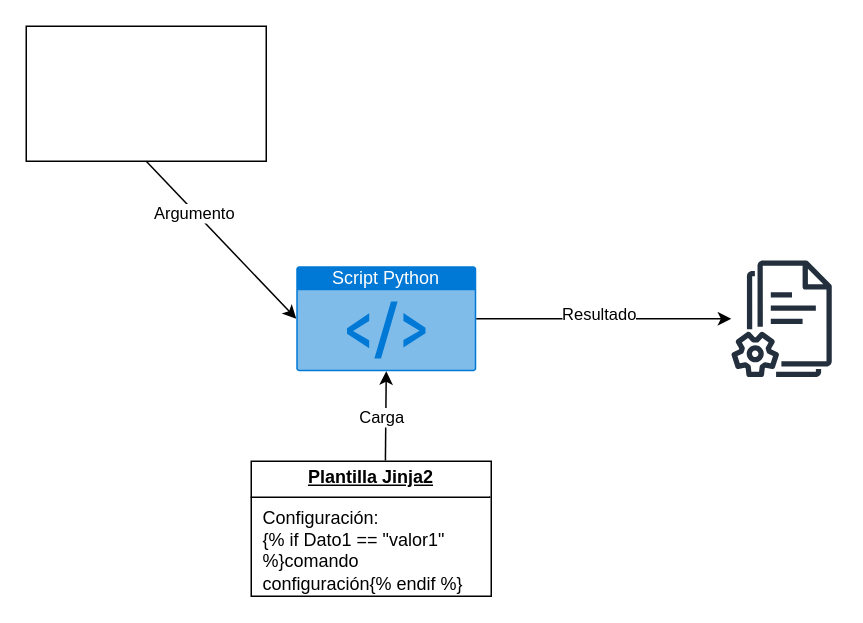
Some shapes in this 863 by 623 pixel diagram are drawn without their labels. The centre of each missing label's shape, as x and y in pixels:
"Configuración" belongs at point (780, 318).
"Estructura de datos YAML Dato1 = valor1 Dato2 = valor2 Dato3 = valor3" belongs at point (145, 93).
